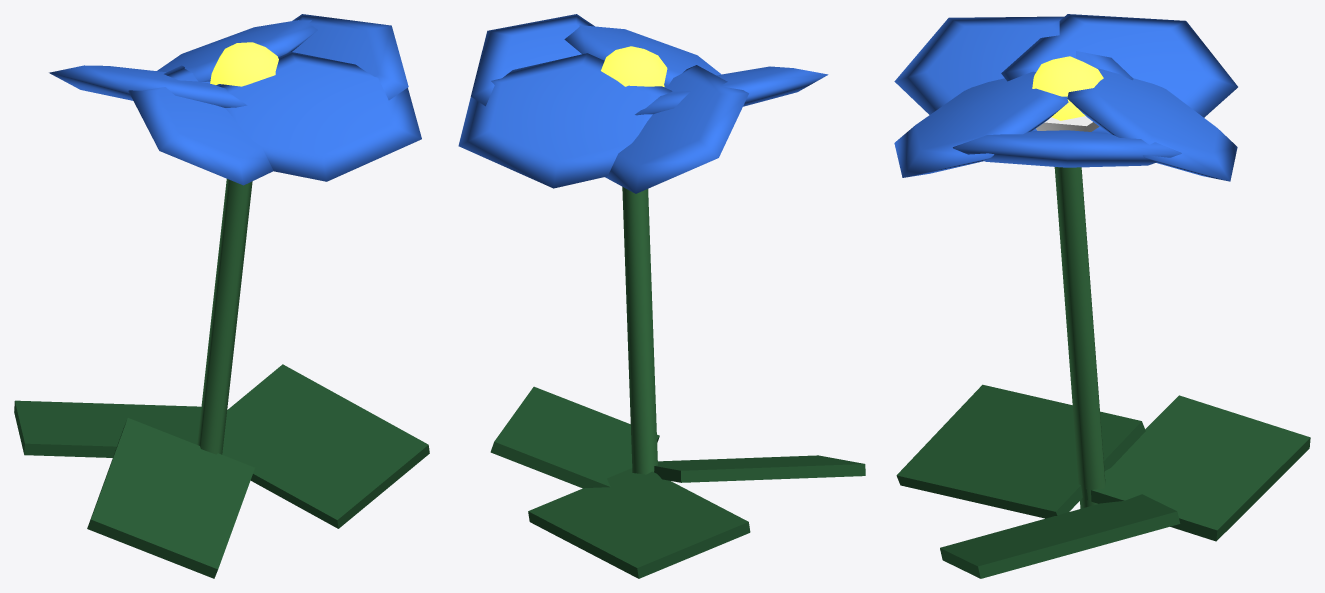
Rendered from flower-single-blue.glb.
3 renders of one model, left to right at view 1: azimuth 30°, elevation 25°; view 2: azimuth 150°, elevation 25°; view 3: azimuth 270°, elevation 25°, orthographic. The views are drawn at different scales.
Visible parts, largest first — view 1: SingleFlower_Blue_darkLeaf, SingleFlower_Blue_flowerBlue1, SingleFlower_Blue_stemGreen, SingleFlower_Blue_flowerCenterGold; view 2: SingleFlower_Blue_flowerBlue1, SingleFlower_Blue_darkLeaf, SingleFlower_Blue_stemGreen, SingleFlower_Blue_flowerCenterGold; view 3: SingleFlower_Blue_darkLeaf, SingleFlower_Blue_flowerBlue1, SingleFlower_Blue_stemGreen, SingleFlower_Blue_flowerCenterGold, SingleFlower_Blue_flowerCenterWhite.
Boxes of the visible parts, <box> form: SingleFlower_Blue_darkLeaf: <box>14,364,429,578</box>; SingleFlower_Blue_flowerBlue1: <box>49,14,421,185</box>; SingleFlower_Blue_stemGreen: <box>197,179,252,454</box>; SingleFlower_Blue_flowerCenterGold: <box>210,42,278,86</box>; SingleFlower_Blue_flowerBlue1: <box>458,14,828,193</box>; SingleFlower_Blue_darkLeaf: <box>490,386,865,578</box>; SingleFlower_Blue_stemGreen: <box>622,187,657,474</box>; SingleFlower_Blue_flowerCenterGold: <box>601,46,667,86</box>; SingleFlower_Blue_darkLeaf: <box>896,384,1310,578</box>; SingleFlower_Blue_flowerBlue1: <box>894,14,1237,181</box>; SingleFlower_Blue_stemGreen: <box>1054,167,1105,508</box>; SingleFlower_Blue_flowerCenterGold: <box>1032,56,1103,120</box>; SingleFlower_Blue_flowerCenterWhite: <box>1036,116,1099,131</box>.
Bounding box in the file's own units: 0.3254 × 0.4081 × 0.3189.
